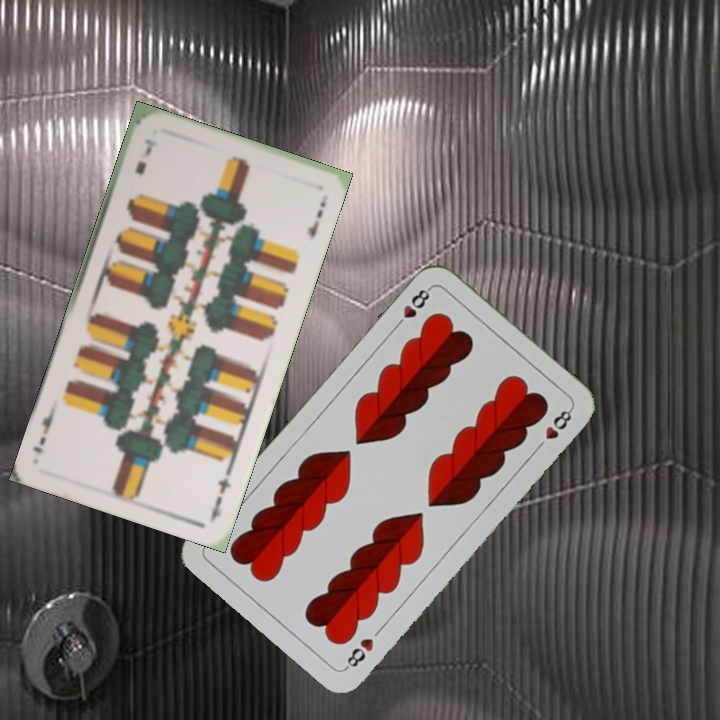E7: (207, 464, 235, 522), (131, 135, 158, 177)
H8: (390, 283, 434, 332), (340, 634, 377, 672)
